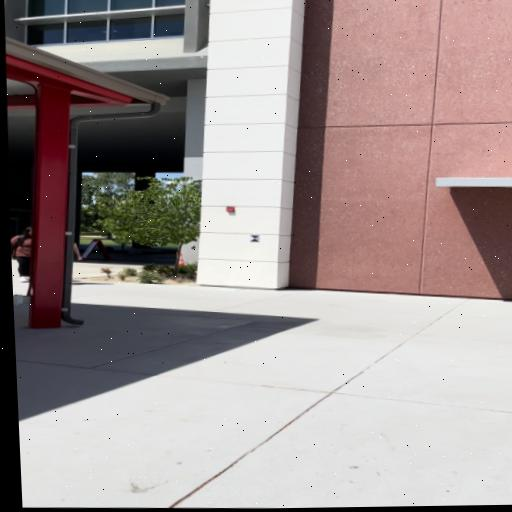target6: (250, 235, 261, 242)
